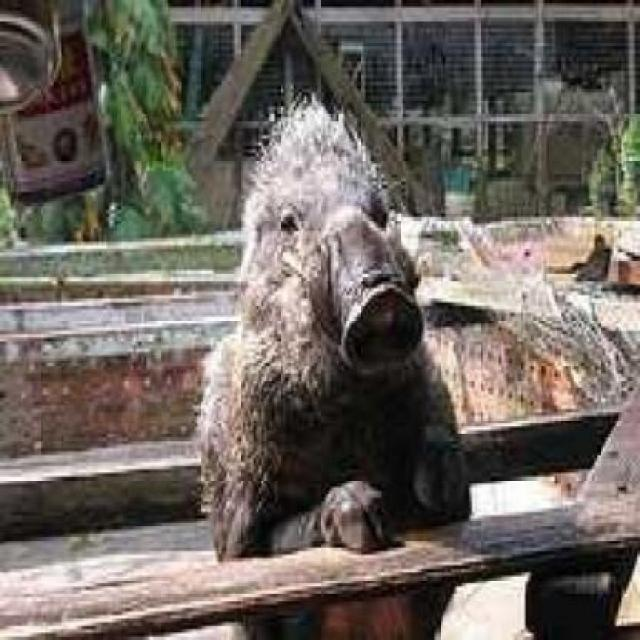pig: (175, 108, 467, 639)
